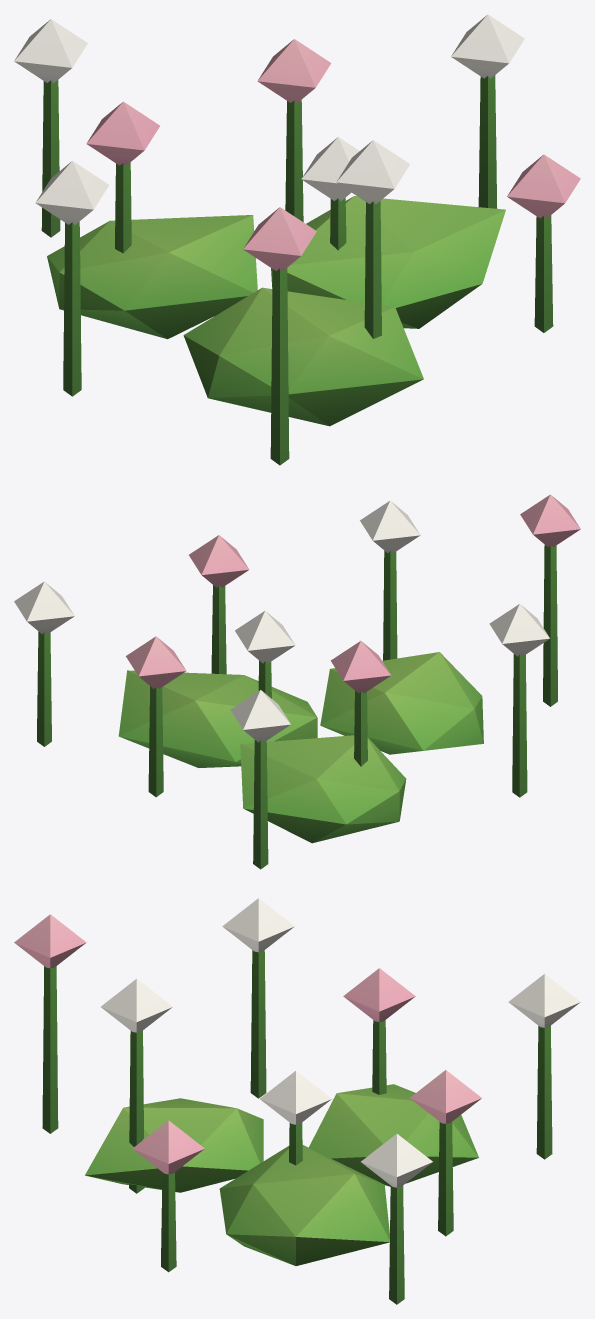
Rendered from flowers_white.glb.
The picture shows the model from 3 angles, top to bottom: view 1: azimuth 30°, elevation 25°; view 2: azimuth 150°, elevation 25°; view 3: azimuth 270°, elevation 25°; orthographic projection. The views are drawn at different scales.
Parts seen in each view (by area): view 1: flowers_white; view 2: flowers_white; view 3: flowers_white.
Boxes of the visible parts, left/top/right/bottom form: flowers_white: left=14, top=14, right=580, bottom=465; flowers_white: left=14, top=494, right=580, bottom=869; flowers_white: left=14, top=898, right=580, bottom=1304.
Size of the model in its own units: 5.55 by 2.53 by 5.61.
1 material, 1 textured.
